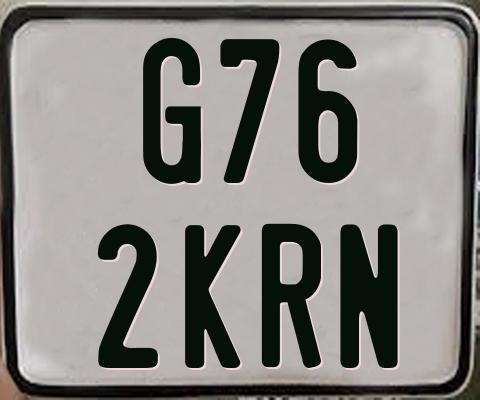2: (97, 224, 161, 373)
6: (297, 39, 358, 188)
7: (217, 38, 280, 182)
G: (142, 38, 202, 188)
K: (185, 222, 244, 366)
N: (340, 221, 403, 370)
R: (262, 221, 327, 365)
